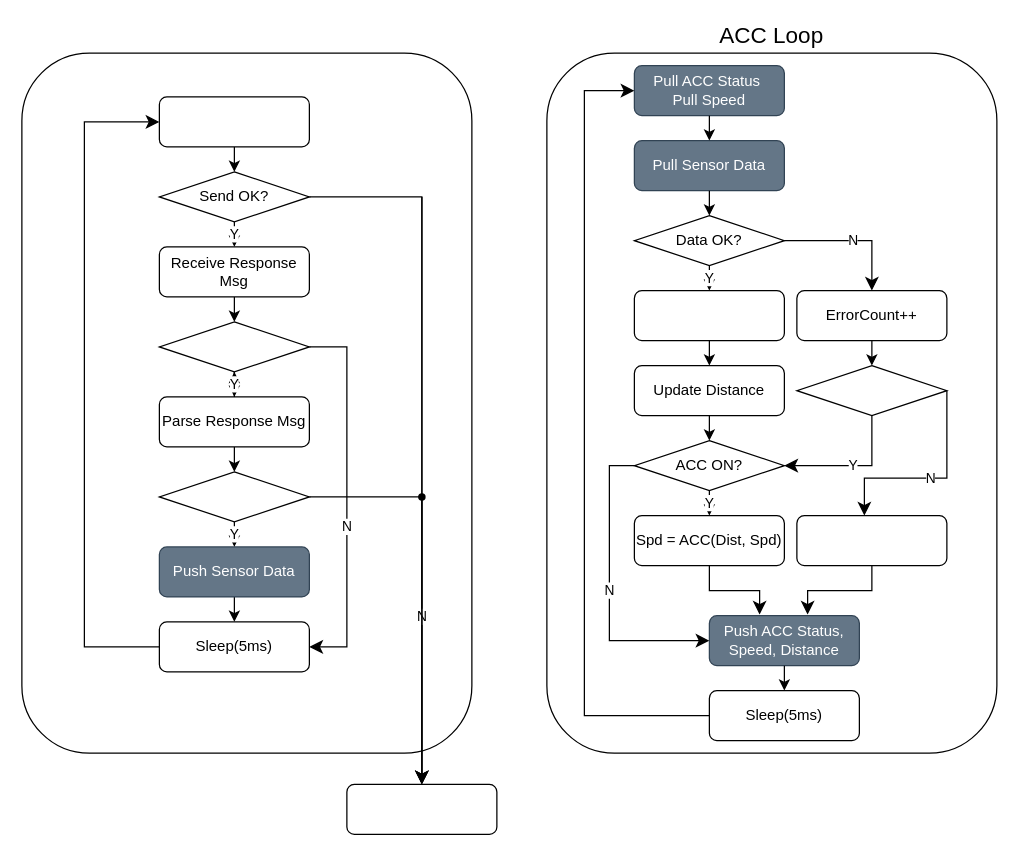
This 1019x856 diagram has some shape labels left out. The shapes that lost their labels are listed below. From the top down, each one's box as (x1, y1, x2, y2) in pixels, then its label:
(158, 96, 309, 147): Send Request Msg
(633, 289, 784, 341): ErrorCount = 0 ACC ERR->OFF
(158, 321, 309, 372): Receive OK?
(21, 52, 472, 753): Comm Loop
(796, 364, 947, 416): BelowThreshold?
(158, 471, 309, 522): Parse OK?
(796, 514, 947, 566): ACC = ERR
(346, 783, 497, 834): Reset Connection
